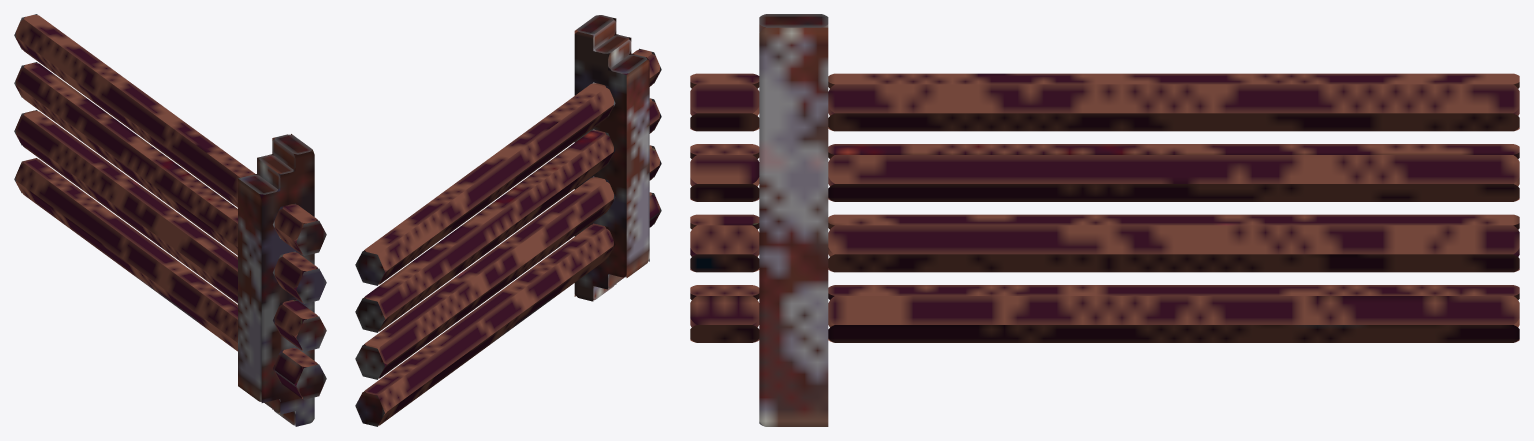
File: CableModuleHorizontal.fbx
3 renders of one model, left to right at view 1: azimuth 30°, elevation 25°; view 2: azimuth 150°, elevation 25°; view 3: azimuth 270°, elevation 25°, orthographic. The views are drawn at different scales.
Visible parts, largest first — view 1: Cable; view 2: Cable; view 3: Cable.
Part boxes in pixels (x1,y1,x2,y2): Cable: (14,14,326,426); Cable: (355,15,661,426); Cable: (690,14,1519,426).
Bounding box in the file's own units: 10.85 × 53.12 × 100.
1 material, 1 textured.
